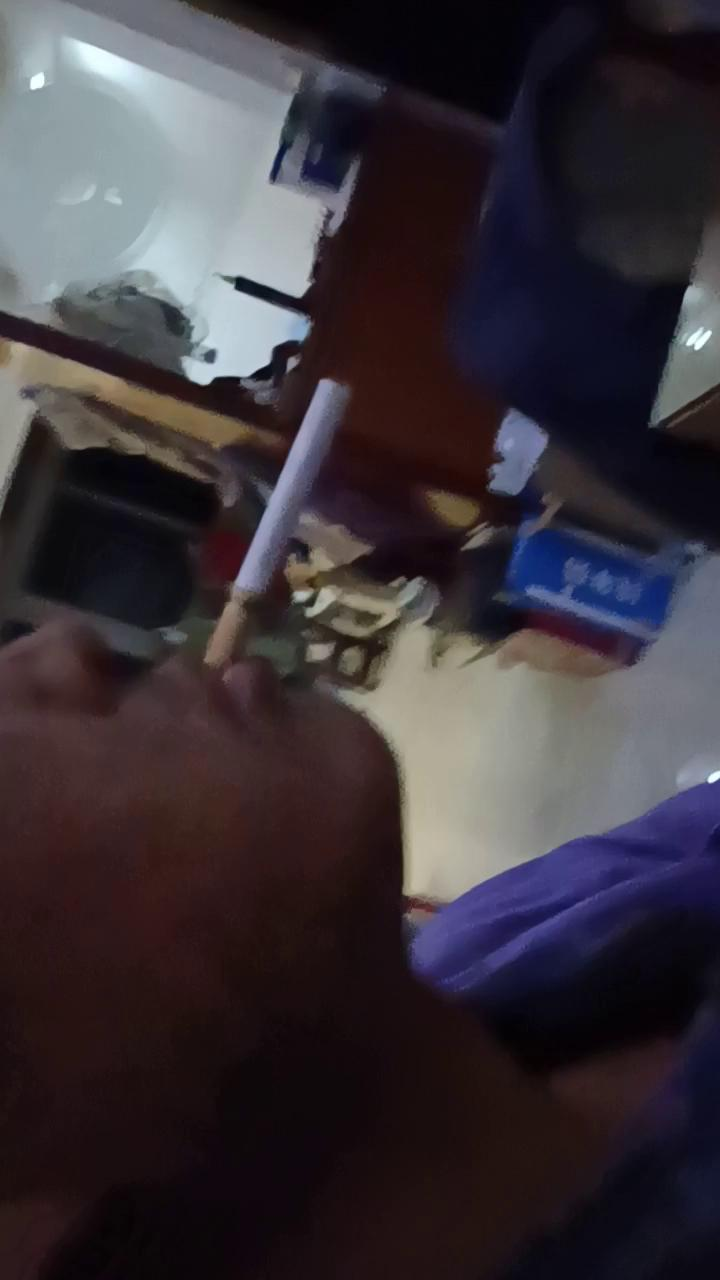smoke: (203, 372, 356, 672)
